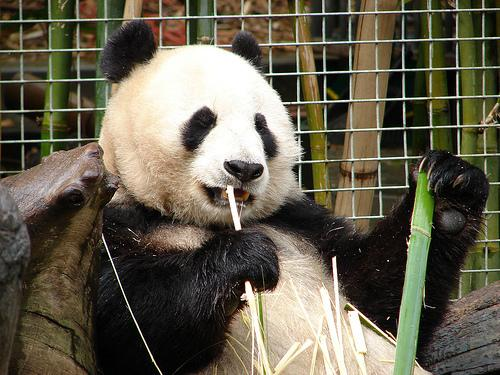panda: (100, 23, 413, 375), (420, 151, 487, 369), (97, 257, 156, 374)
